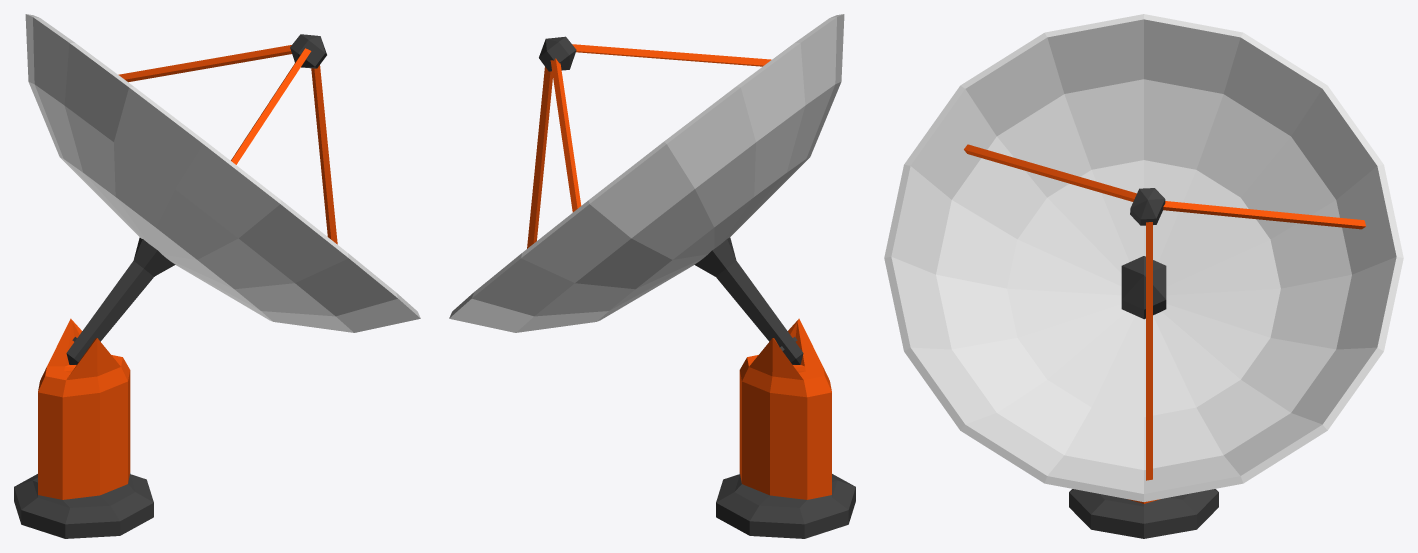
The model's file is antenna.fbx.
3 views of the same model, side by side, from view 1: azimuth 30°, elevation 25°; view 2: azimuth 150°, elevation 25°; view 3: azimuth 270°, elevation 25° (orthographic). The views are drawn at different scales.
Visible parts, largest first — view 1: antenna; view 2: antenna; view 3: antenna.
Part boxes in pixels (x1,y1,x2,y2): antenna: (14,14,420,538); antenna: (449,14,855,538); antenna: (884,14,1403,538).
Size of the model in its own units: 274 by 346 by 336.
